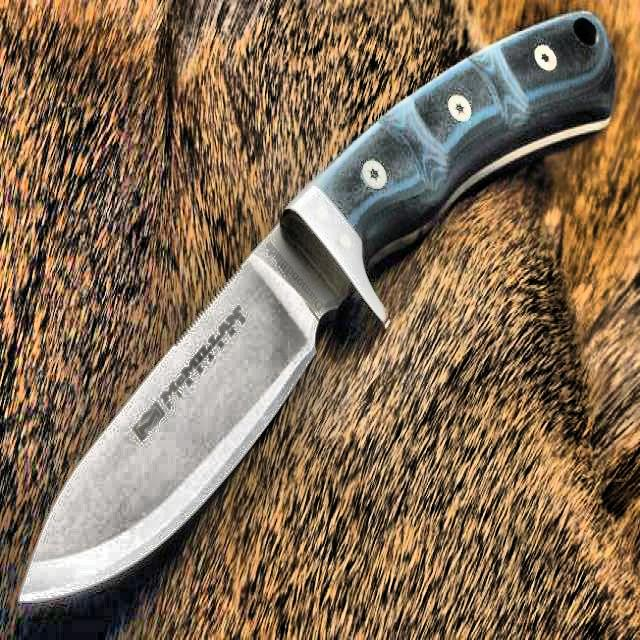knife: (14, 12, 614, 602)
